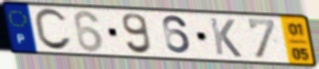6: (72, 9, 108, 54), (161, 14, 194, 57)
7: (246, 17, 278, 61)
9: (120, 12, 153, 56)
C: (32, 7, 74, 53)
K: (207, 17, 244, 59)
